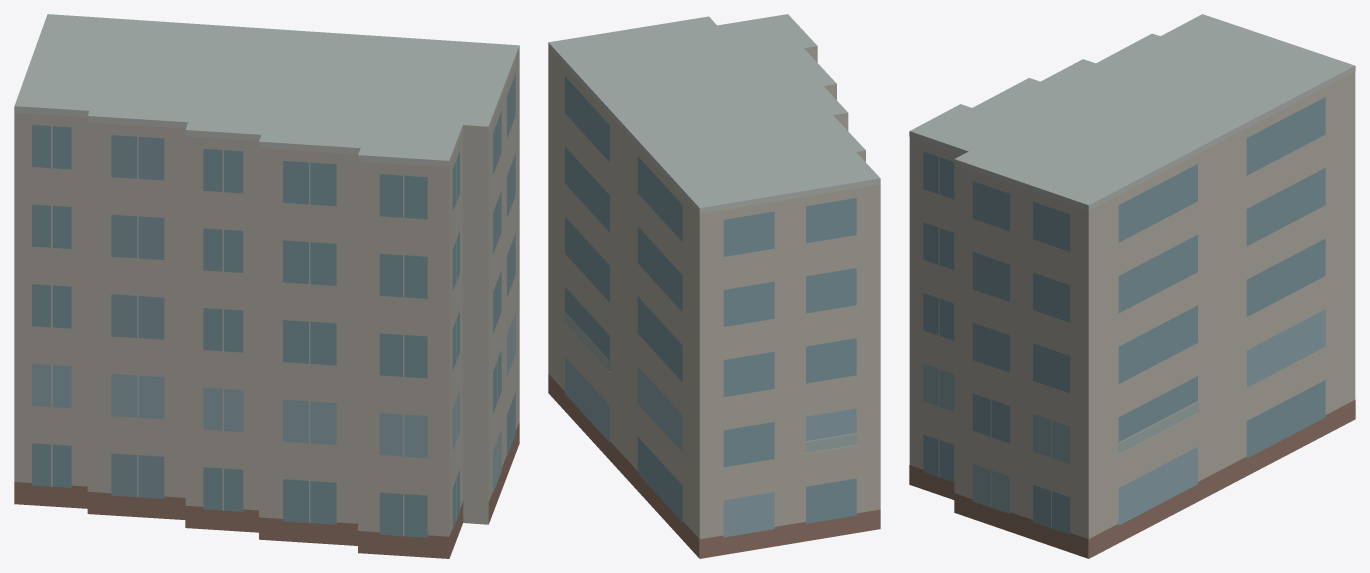
The model's file is survey-upis-32669067.glb.
3 views of the same model, side by side, from view 1: azimuth 30°, elevation 25°; view 2: azimuth 150°, elevation 25°; view 3: azimuth 270°, elevation 25° (orthographic). The views are drawn at different scales.
Parts seen in each view (by area): view 1: survey-upis-32669067.tmp; view 2: survey-upis-32669067.tmp; view 3: survey-upis-32669067.tmp.
Part boxes in pixels (x1=…): survey-upis-32669067.tmp: x1=14, y1=14, x2=519, y2=558; survey-upis-32669067.tmp: x1=548, y1=14, x2=880, y2=558; survey-upis-32669067.tmp: x1=909, y1=14, x2=1355, y2=558.
Bounding box in the file's own units: 17.7 × 15.25 × 17.44.
